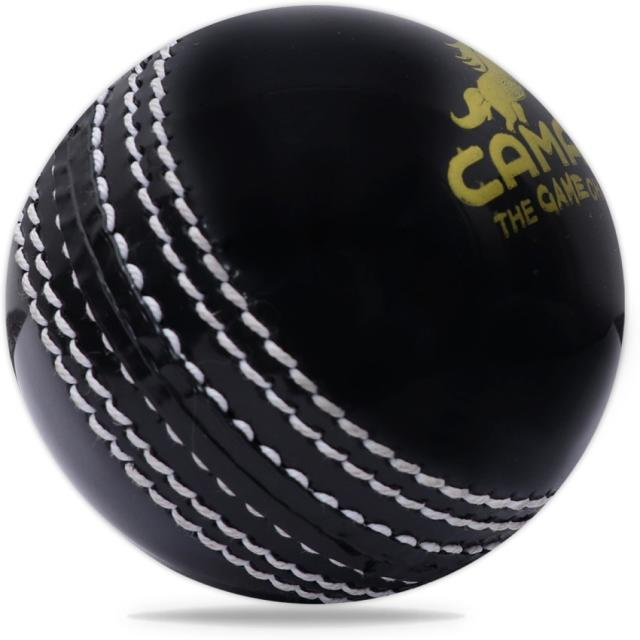ball: (8, 5, 626, 610)
